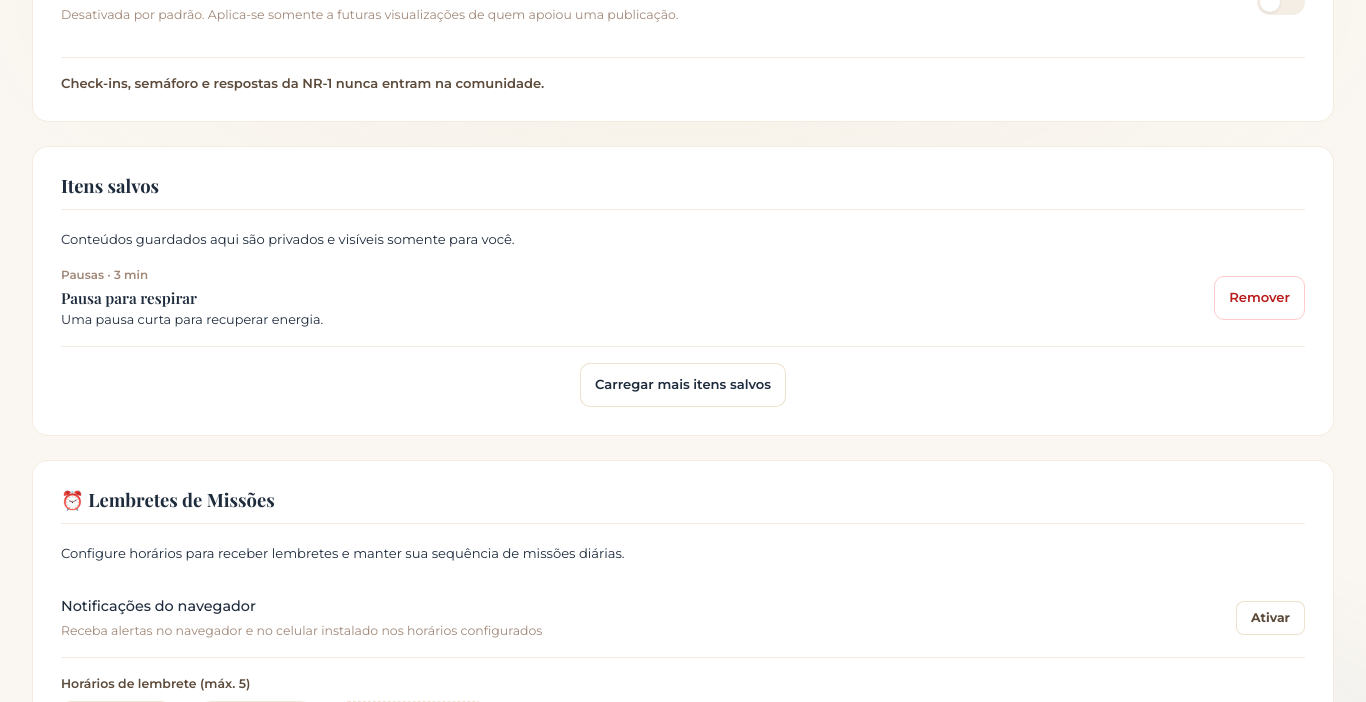
profile saved community items › loads the next saved page from the cursor returned by the hook contract
(page scrolled)
Click the button "Carregar mais itens salvos".
click(683, 385)  # box [580,363,786,407]
(page scrolled)
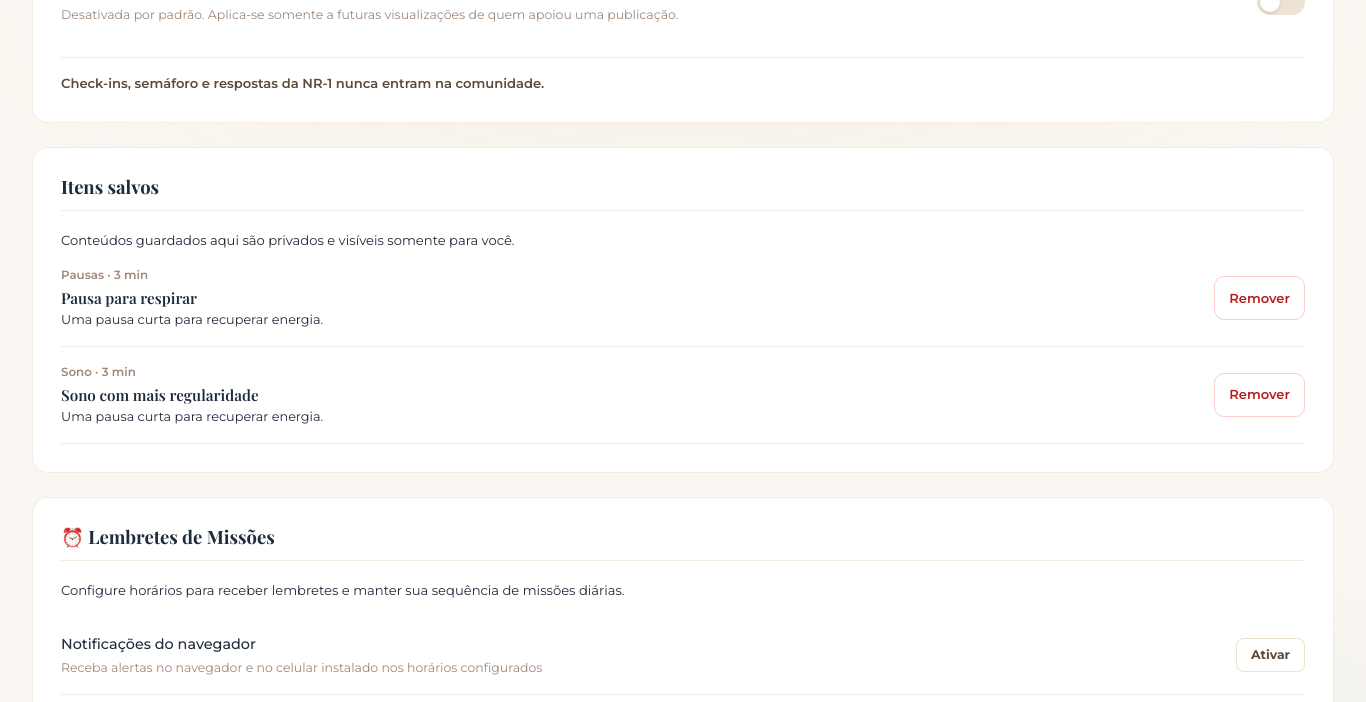
Now the heading "Sono com mais regularidade" is shown, box [61,385,259,405]
Now the button "Carregar mais itens salvos" is gone
